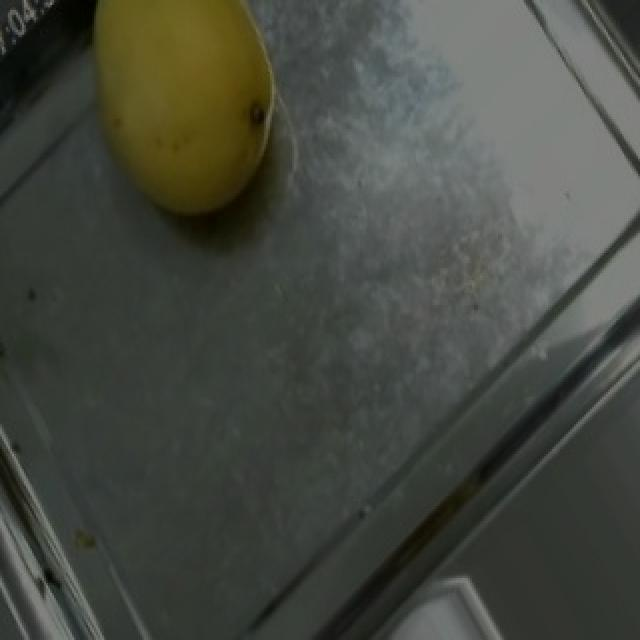fruit: (54, 0, 316, 253)
